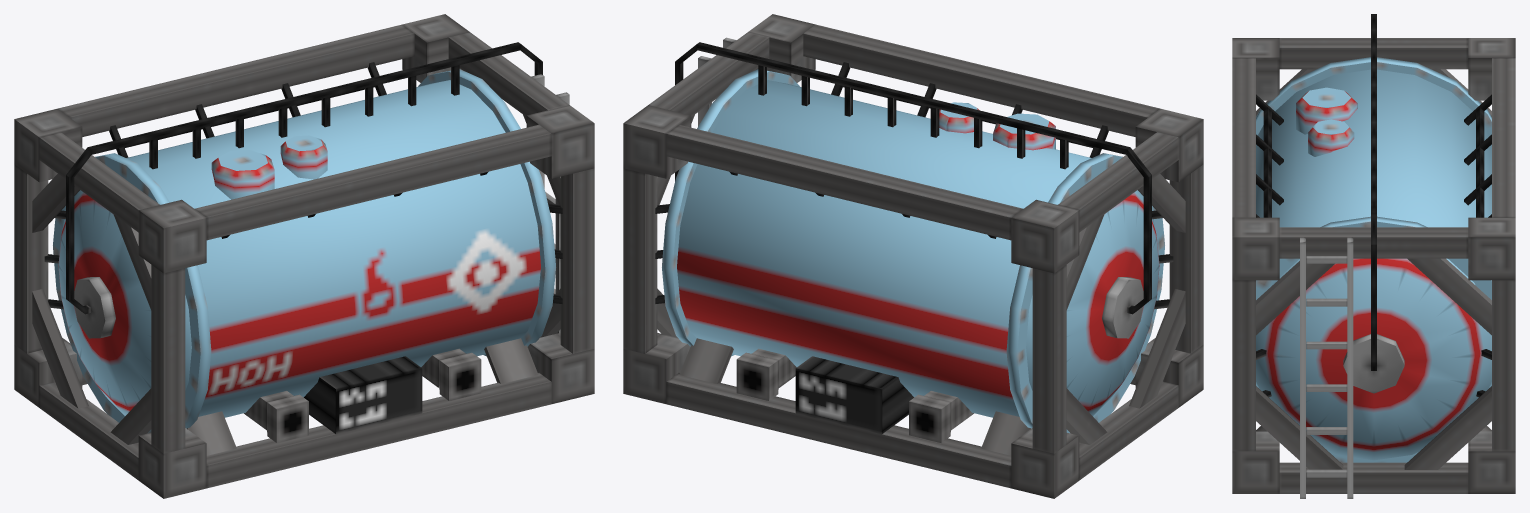
File: machine_fluidtank_fluid_91.obj
The picture shows the model from 3 angles, left to right: view 1: azimuth 30°, elevation 25°; view 2: azimuth 150°, elevation 25°; view 3: azimuth 270°, elevation 25°; orthographic projection. The views are drawn at different scales.
Parts seen in each view (by area): view 1: Frame, Tank; view 2: Frame, Tank; view 3: Frame, Tank.
Part boxes in pixels (<box>): Frame: <box>14,14,594,498</box>; Tank: <box>53,69,555,433</box>; Frame: <box>623,14,1203,498</box>; Tank: <box>662,69,1164,433</box>; Frame: <box>1232,14,1515,498</box>; Tank: <box>1256,57,1491,462</box>.
Size of the model in its own units: 5.5 by 3.28 by 3.
